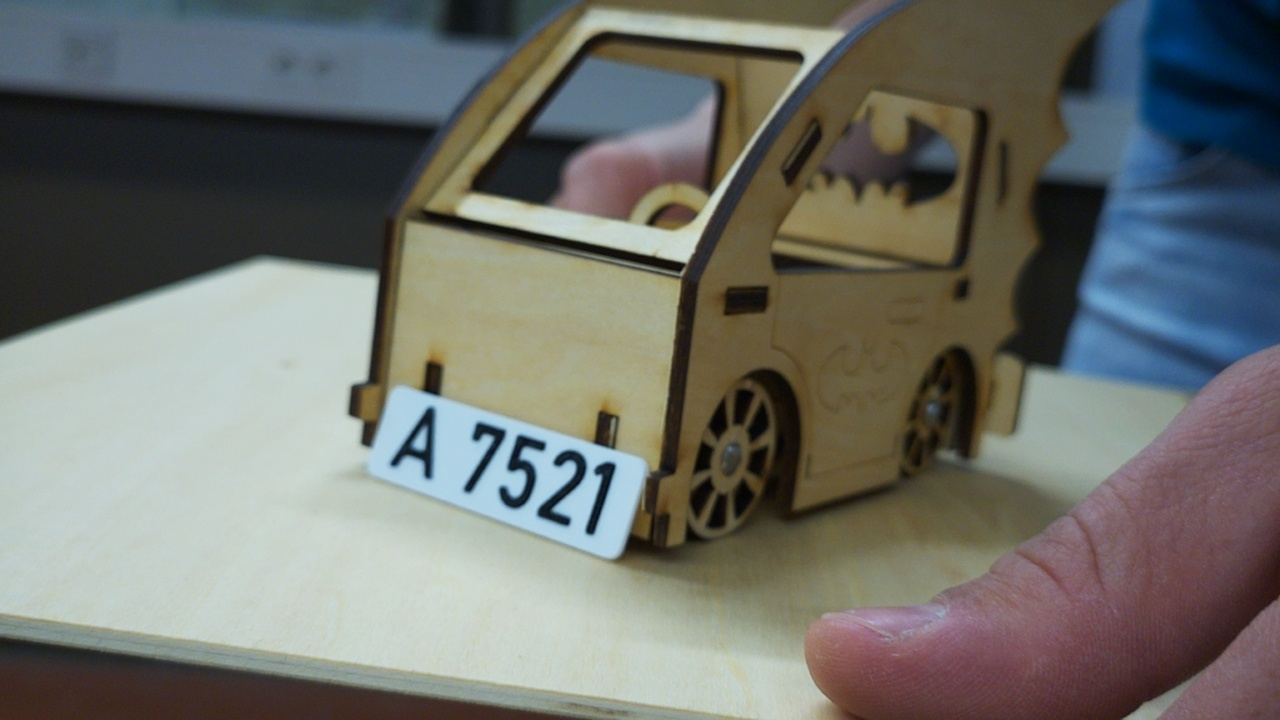license_plate: (360, 378, 655, 568)
